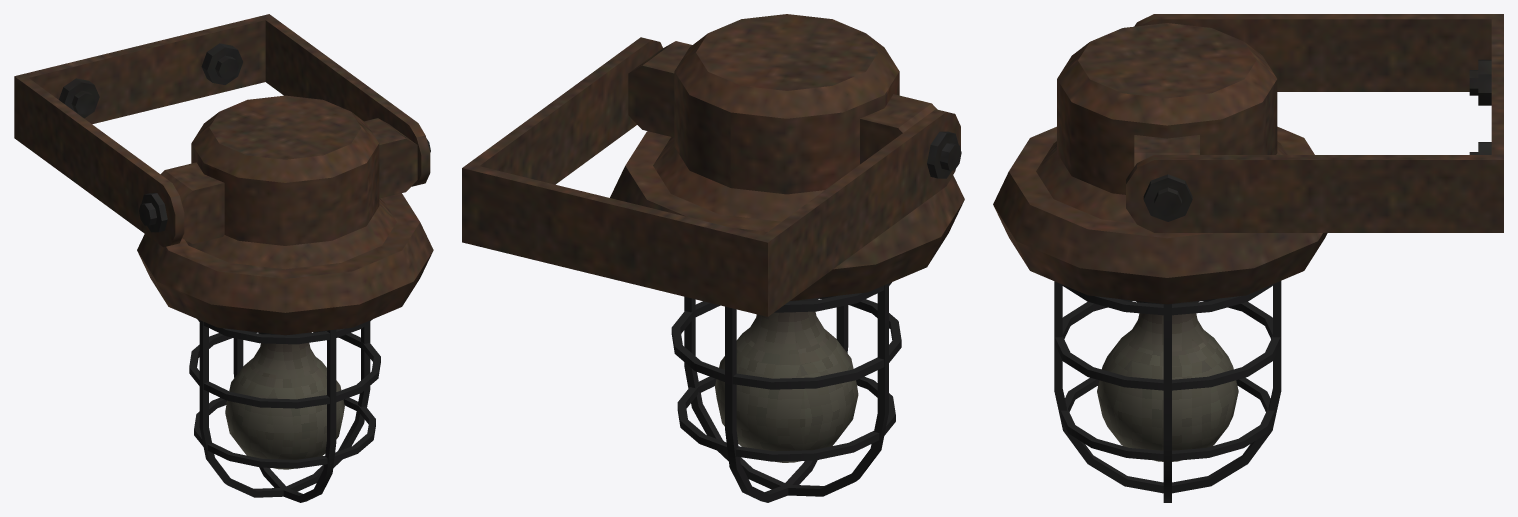
The model's file is lamp_mx_1_b_off.obj.
The picture shows the model from 3 angles, left to right: view 1: azimuth 30°, elevation 25°; view 2: azimuth 150°, elevation 25°; view 3: azimuth 270°, elevation 25°; orthographic projection. The views are drawn at different scales.
Visible parts, largest first — view 1: lamp_mx_1_b_off; view 2: lamp_mx_1_b_off; view 3: lamp_mx_1_b_off.
Part boxes in pixels (x1=…): lamp_mx_1_b_off: x1=14, y1=14, x2=433, y2=502; lamp_mx_1_b_off: x1=462, y1=14, x2=964, y2=502; lamp_mx_1_b_off: x1=993, y1=14, x2=1503, y2=502.
Bounding box in the file's own units: 0.1876 × 0.2352 × 0.2522.
